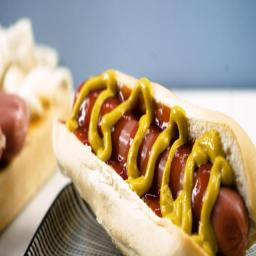hotdog: (44, 67, 255, 256)
